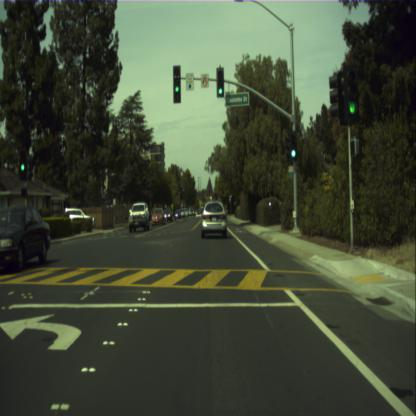Green: (344, 66, 358, 118), (173, 66, 180, 102), (216, 68, 224, 96), (19, 148, 26, 179), (290, 131, 297, 159)
